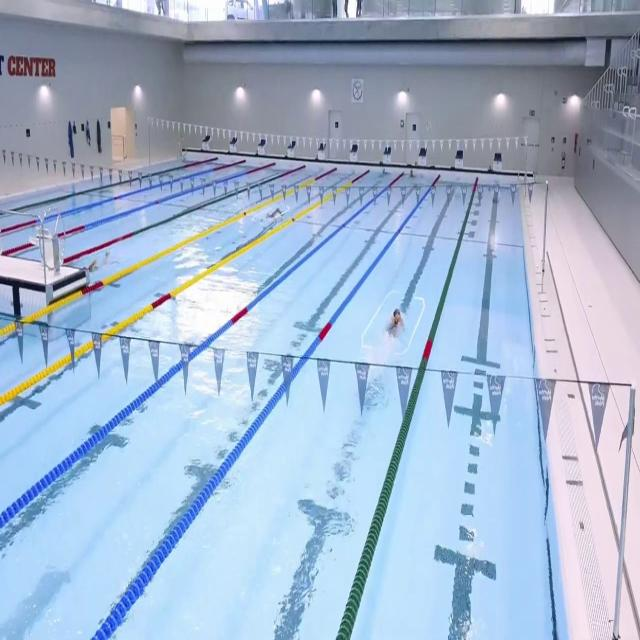Swimming: (82, 250, 119, 272), (387, 308, 406, 342), (266, 207, 284, 220)
